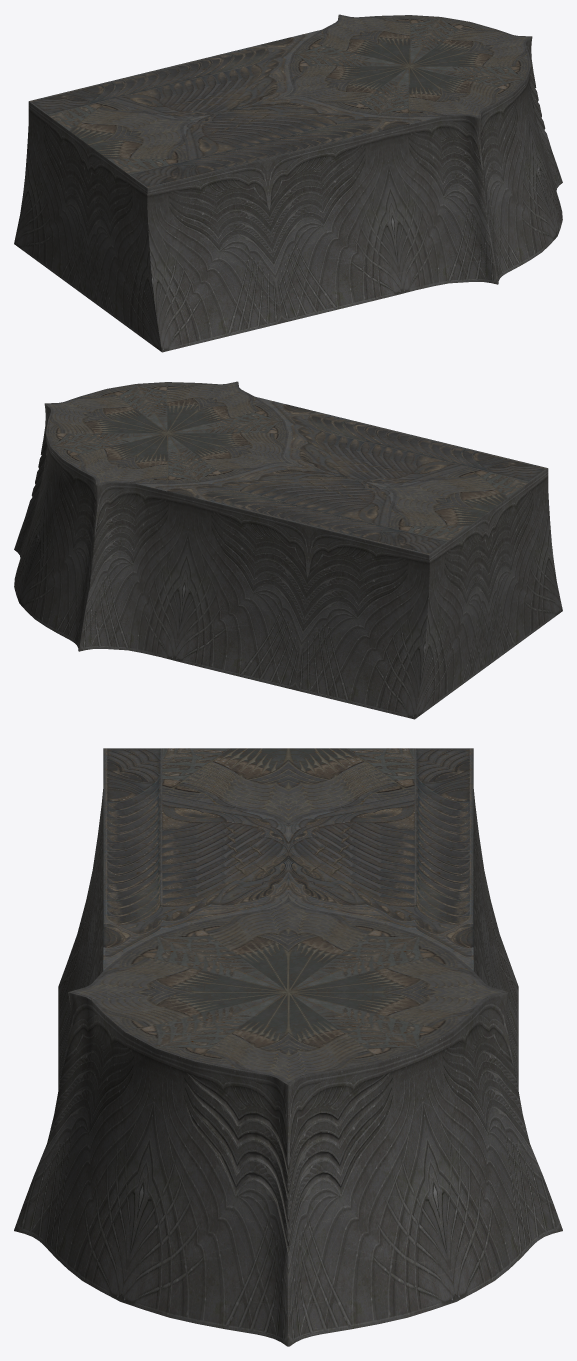
File: bg_rad_kamen_floor02_sm.obj
3 views of the same model, one above another, from view 1: azimuth 30°, elevation 25°; view 2: azimuth 150°, elevation 25°; view 3: azimuth 270°, elevation 25° (orthographic). The views are drawn at different scales.
Visible parts, largest first — view 1: bg_rad_kamen_floor02_sm_0, bg_rad_kamen_floor02_sm_1, bg_rad_kamen_floor02_sm_3, bg_rad_kamen_floor02_sm_2; view 2: bg_rad_kamen_floor02_sm_0, bg_rad_kamen_floor02_sm_1, bg_rad_kamen_floor02_sm_3, bg_rad_kamen_floor02_sm_2; view 3: bg_rad_kamen_floor02_sm_0, bg_rad_kamen_floor02_sm_1, bg_rad_kamen_floor02_sm_3, bg_rad_kamen_floor02_sm_2.
Boxes of the visible parts, bbox=[...] form: bg_rad_kamen_floor02_sm_0: bbox=[14, 37, 562, 352]; bg_rad_kamen_floor02_sm_1: bbox=[48, 14, 531, 174]; bg_rad_kamen_floor02_sm_3: bbox=[29, 52, 346, 188]; bg_rad_kamen_floor02_sm_2: bbox=[193, 30, 440, 139]; bg_rad_kamen_floor02_sm_0: bbox=[14, 404, 562, 719]; bg_rad_kamen_floor02_sm_1: bbox=[45, 381, 528, 541]; bg_rad_kamen_floor02_sm_3: bbox=[230, 419, 547, 555]; bg_rad_kamen_floor02_sm_2: bbox=[136, 397, 383, 506]; bg_rad_kamen_floor02_sm_0: bbox=[14, 789, 562, 1346]; bg_rad_kamen_floor02_sm_1: bbox=[68, 748, 508, 1084]; bg_rad_kamen_floor02_sm_3: bbox=[103, 748, 473, 899]; bg_rad_kamen_floor02_sm_2: bbox=[103, 837, 473, 970].
Bounding box in the file's own units: 6.77 × 2.09 × 4.36.
Materials: 4 (4 with a texture image).
